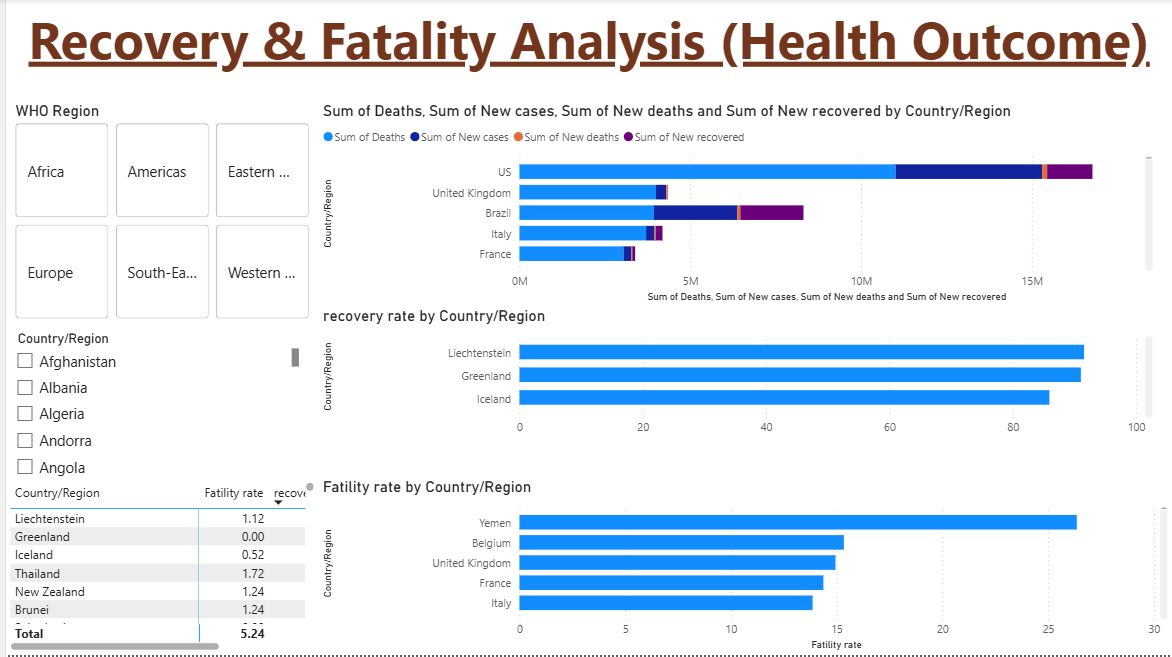

The dashboard page shown, as its layout file describes it:
{"tool":"powerbi","page":{"name":"Page 4","canvas":[1280,720],"ordinal":3},"visuals":[{"type":"textbox","box":[0,0,1280.3,112.5],"z":0},{"type":"pivotTable","fields":{"Rows":["country_daily.Country/Region"],"Values":["country_daily.Fatility rate","country_daily.recovery rate"]},"box":[0,525.6,343.1,194.9],"z":1000},{"type":"barChart","fields":{"Category":["country_daily.Country/Region"],"Y":["country_daily.Fatility rate"]},"box":[343.1,525.6,937.2,194.9],"z":2000},{"type":"barChart","fields":{"Category":["country_daily.Country/Region"],"Y":["Sum(country_daily.Deaths)","Sum(country_daily.New cases)","Sum(country_daily.New deaths)","Sum(country_daily.New recovered)"]},"box":[343.1,112.5,920.8,225],"z":3000},{"type":"slicer","fields":{"Values":["country_daily.Country/Region"]},"box":[0,359.5,326.6,171.5],"z":4000},{"type":"barChart","fields":{"Y":["country_daily.recovery rate"],"Category":["country_daily.Country/Region"]},"box":[343.1,337.6,920.8,150.9],"z":5000},{"type":"advancedSlicerVisual","fields":{"Values":["country_daily.WHO Region"]},"box":[5.5,112.5,332.1,244.3],"z":6000}]}

Visuals, with their boxes in screenshot pixels (x1, y1, x2, y2), scaled from the page's 1280x720 canvas onto the 1172x657 screenshot:
textbox: pyautogui.locateOnScreen(0, 0, 1171, 103)
pivotTable - country_daily.Country/Region x country_daily.Fatility rate: pyautogui.locateOnScreen(0, 480, 314, 656)
barChart - country_daily.Country/Region x country_daily.Fatility rate: pyautogui.locateOnScreen(314, 480, 1171, 656)
barChart - country_daily.Country/Region x Sum(country_daily.Deaths): pyautogui.locateOnScreen(314, 103, 1157, 308)
slicer - country_daily.Country/Region: pyautogui.locateOnScreen(0, 328, 299, 485)
barChart - country_daily.recovery rate x country_daily.Country/Region: pyautogui.locateOnScreen(314, 308, 1157, 446)
advancedSlicerVisual - country_daily.WHO Region: pyautogui.locateOnScreen(5, 103, 309, 326)
